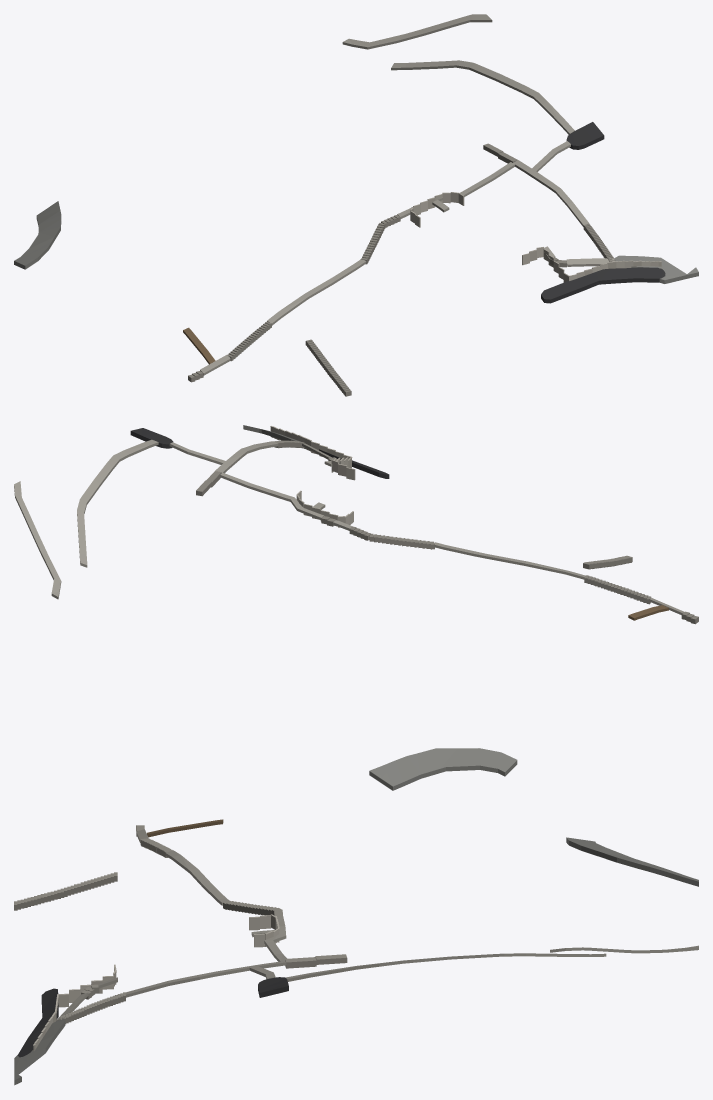
3 views of the same model, one above another, from view 1: azimuth 30°, elevation 25°; view 2: azimuth 150°, elevation 25°; view 3: azimuth 270°, elevation 25° (orthographic). The views are drawn at different scales.
Size of the model in its own units: 147 by 44.61 by 146.
